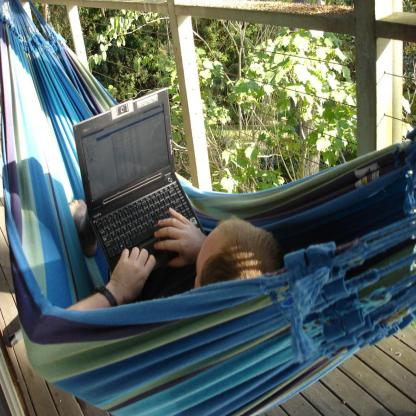board: (73, 88, 205, 304)
